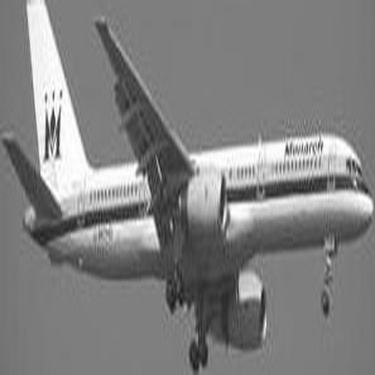airplane: (8, 5, 369, 370)
